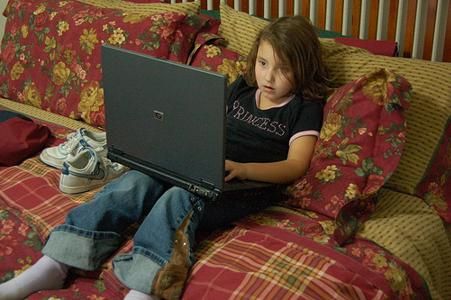person: (1, 13, 327, 300)
